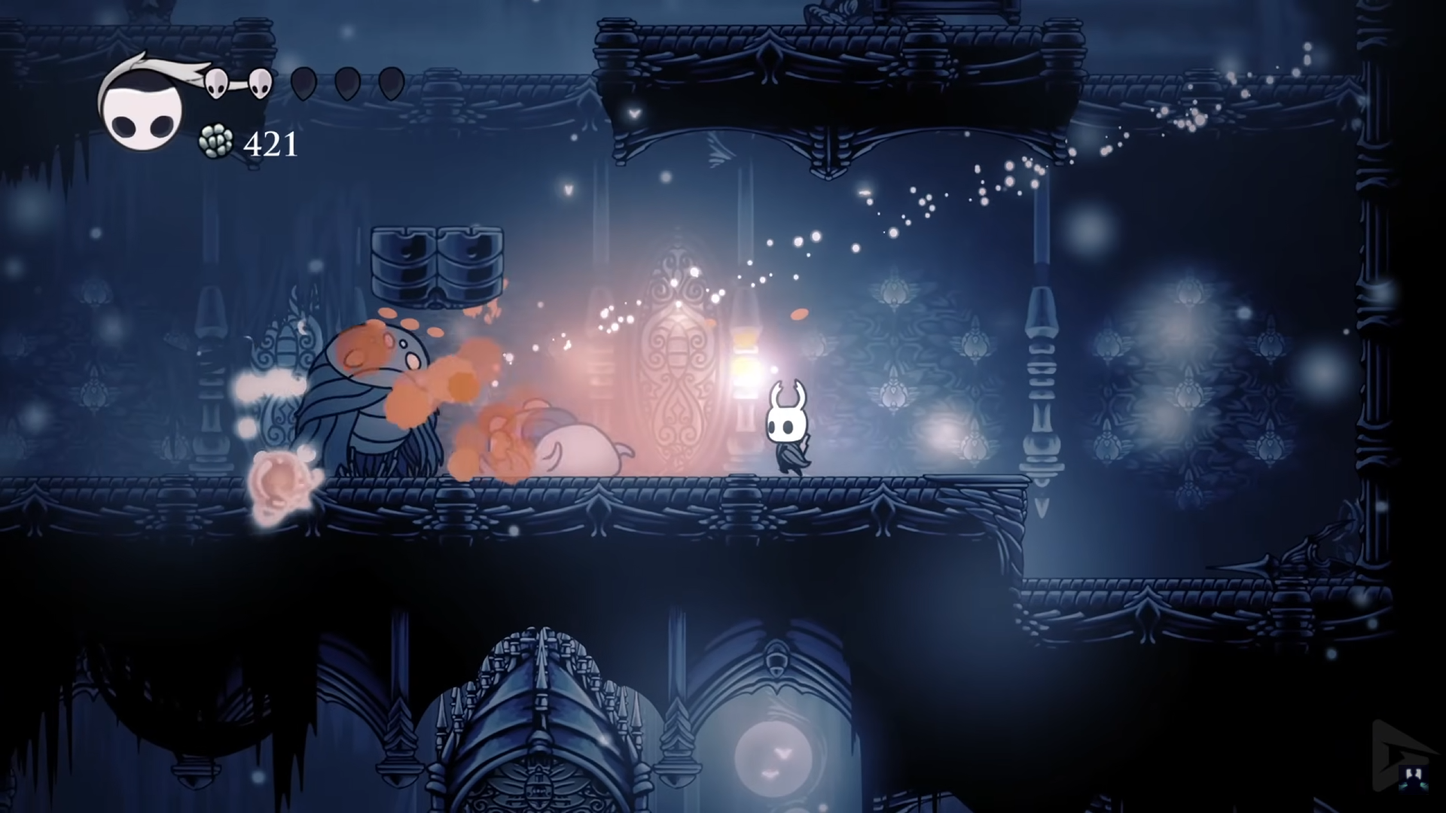HK: (758, 375, 820, 478)
